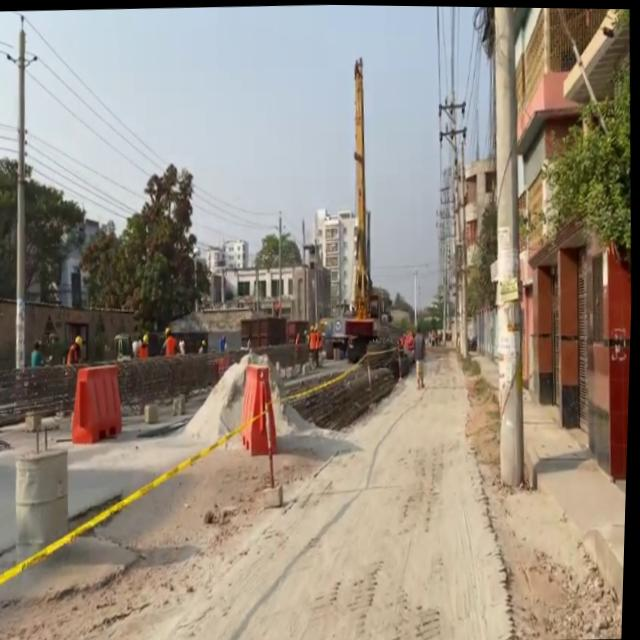Construction-barrier: (450, 347, 531, 640), (578, 522, 628, 636)
Garbage: (5, 434, 93, 576), (70, 362, 127, 444), (239, 361, 281, 455), (241, 314, 288, 347)
Garbage-bin: (67, 333, 86, 364), (31, 338, 48, 367), (198, 336, 208, 353)
Light-pole: (478, 6, 537, 485), (4, 21, 38, 367)
Pothole: (462, 341, 632, 640)
Traffic-cone: (314, 52, 389, 362)
